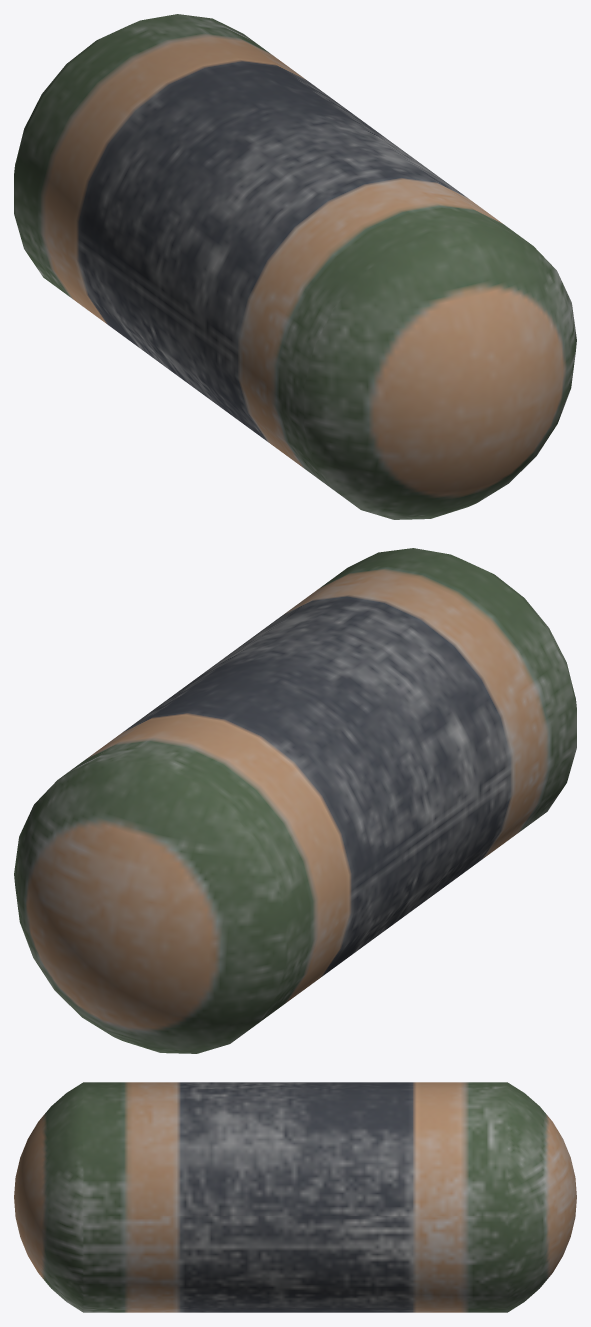
File: Balon.FBX
The picture shows the model from 3 angles, top to bottom: view 1: azimuth 30°, elevation 25°; view 2: azimuth 150°, elevation 25°; view 3: azimuth 270°, elevation 25°; orthographic projection. The views are drawn at different scales.
Visible parts, largest first — view 1: Balon; view 2: Balon; view 3: Balon.
Boxes of the visible parts, box(x1,y1,x2,y2) form: Balon: box(14, 14, 576, 519); Balon: box(14, 548, 576, 1053); Balon: box(14, 1082, 576, 1312).
Size of the model in its own units: 12.23 by 29.91 by 12.25.
